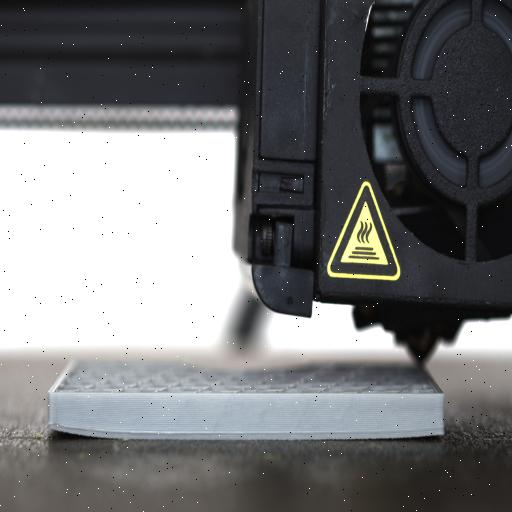warp: (35, 403, 95, 443), (394, 410, 454, 446)
